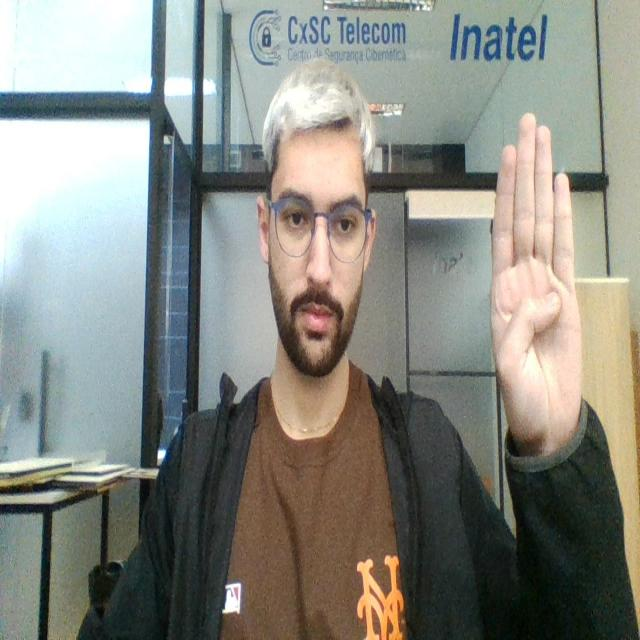B: (486, 108, 588, 441)
